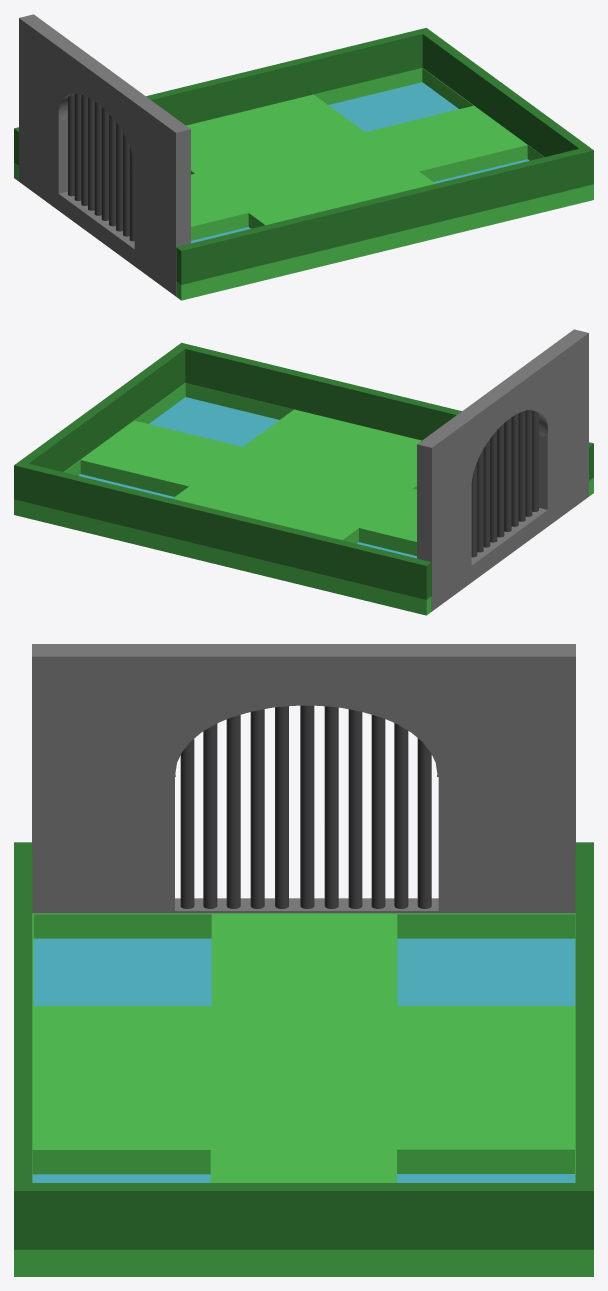
The model's file is Stage0103.fbx.
3 views of the same model, one above another, from view 1: azimuth 30°, elevation 25°; view 2: azimuth 150°, elevation 25°; view 3: azimuth 270°, elevation 25° (orthographic). The views are drawn at different scales.
Visible parts, largest first — view 1: pCube12, polySurface1, polySurface2, pPlane1; view 2: pCube12, polySurface1, polySurface2, pPlane1; view 3: pCube12, polySurface1, polySurface2, pPlane1.
Part boxes in pixels (x1,y1,x2,y2): pCube12: [14, 28, 593, 300]; polySurface1: [19, 14, 190, 296]; polySurface2: [68, 93, 134, 241]; pPlane1: [191, 82, 529, 243]; pCube12: [14, 342, 593, 615]; polySurface1: [417, 329, 588, 611]; polySurface2: [471, 409, 538, 557]; pPlane1: [78, 397, 416, 558]; pCube12: [14, 842, 593, 1276]; polySurface1: [32, 644, 575, 913]; polySurface2: [180, 705, 431, 908]; pPlane1: [32, 938, 575, 1182].
Size of the model in its own units: 22.41 by 8.51 by 15.75.
